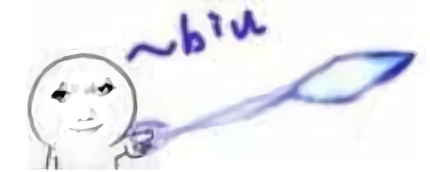dragon: (51, 77, 118, 135)
